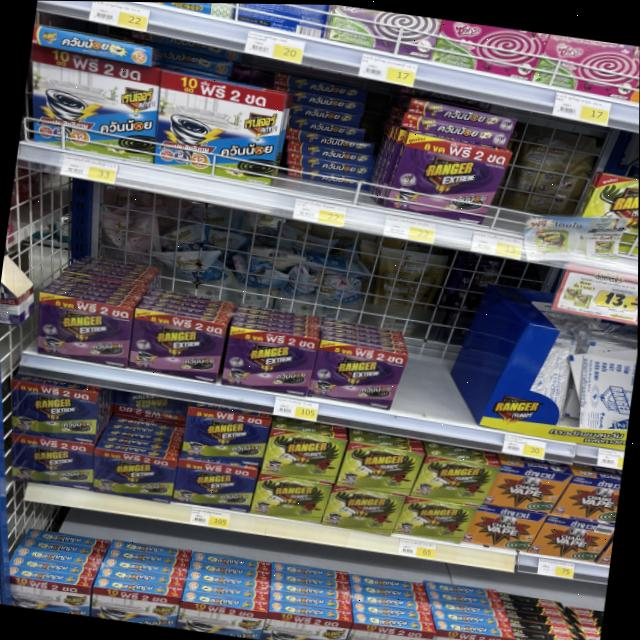empty_shelf: (280, 73, 403, 201), (493, 125, 605, 239), (391, 338, 503, 424)
